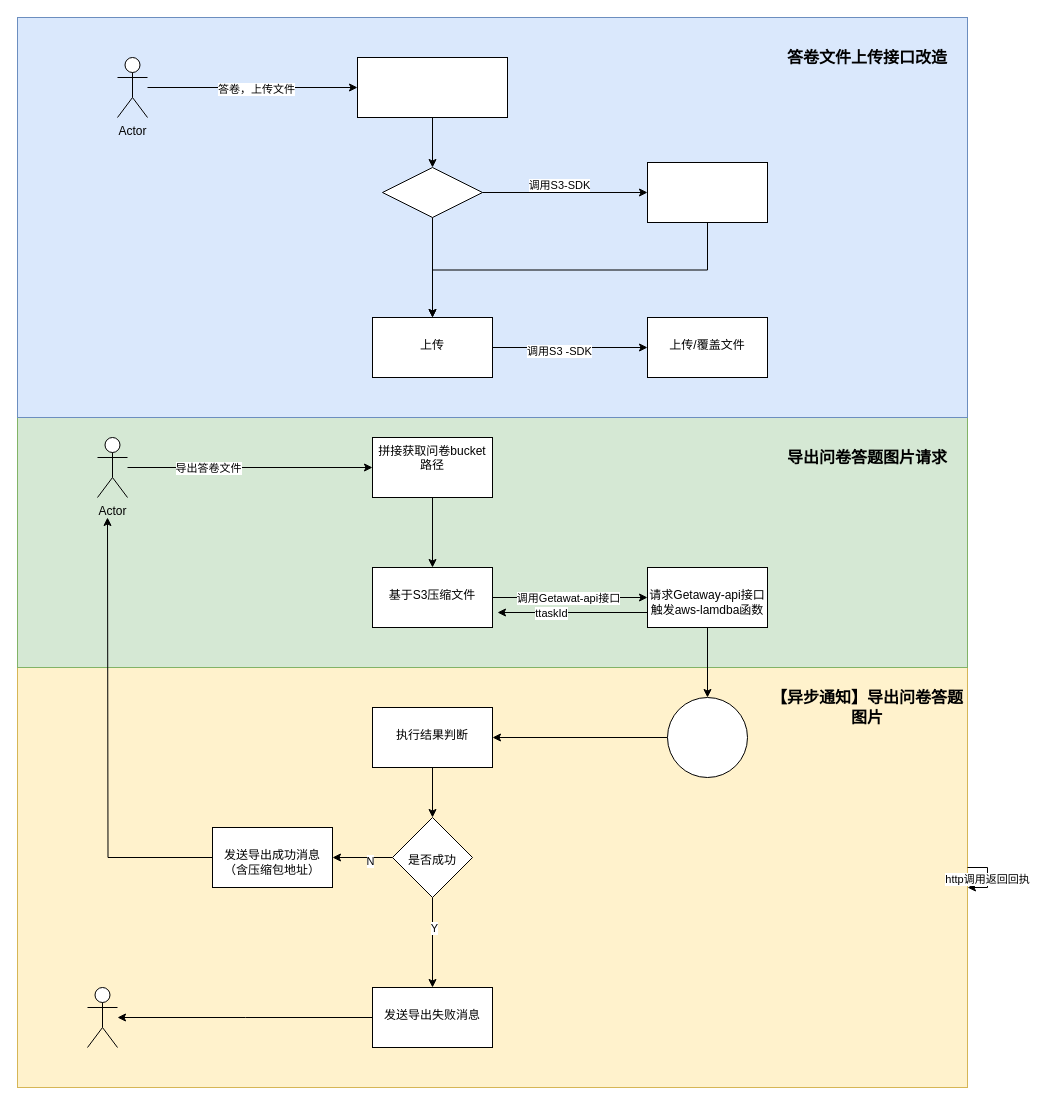
This 1046x1105 diagram has some shape labels left out. Here are the shapes that lost their labels. From the top down, the box of each, then its label:
(356, 56, 508, 118): 拼接图片名称： 用户名称_次数_答卷id_第几题_图片序号
(382, 166, 482, 218): 问卷对应 bucket是否存在
(646, 162, 768, 222): 创建Bucket （文件夹）
(666, 696, 748, 778): 执行结果
(86, 986, 118, 1048): 研发
